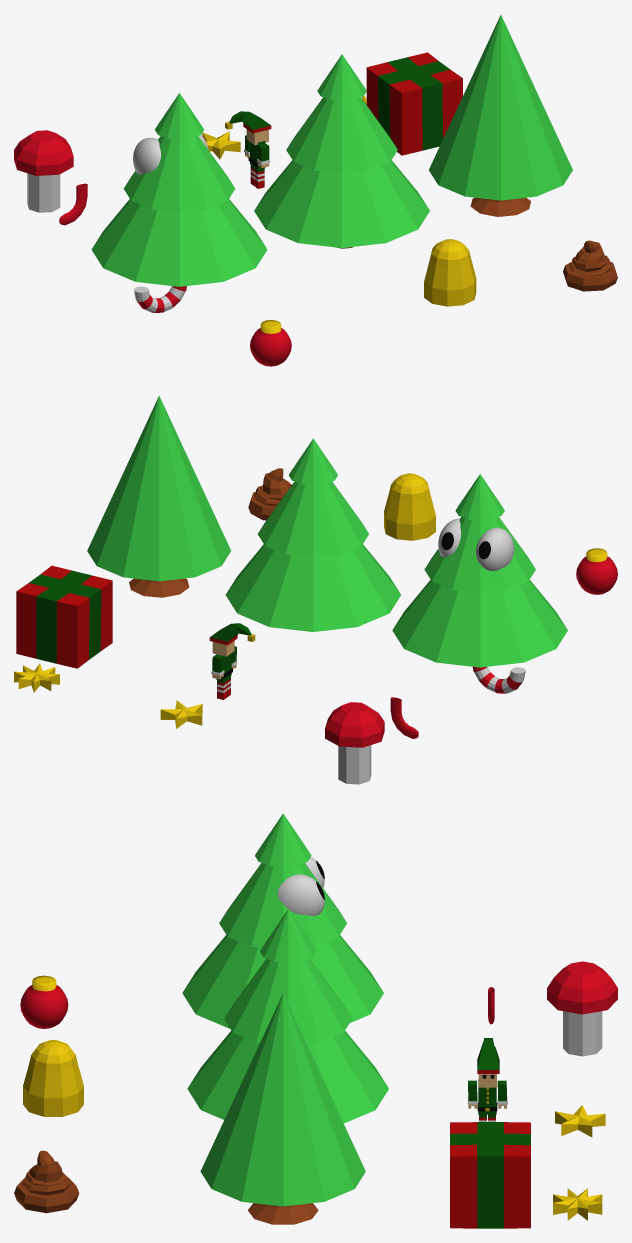
File: NATALZINHO.fbx
3 views of the same model, one above another, from view 1: azimuth 30°, elevation 25°; view 2: azimuth 150°, elevation 25°; view 3: azimuth 270°, elevation 25° (orthographic). The views are drawn at different scales.
Parts seen in each view (by area): view 1: V0, V2, V1, P0, EN2.001, EN1, EN2, P1, EN0, T1.001, T2, Sphere (+2 smaller); view 2: V0, V2, V1, P0, EN2.001, EN1, Sphere, P1, EN0, EN2, T1.001, T2 (+3 smaller); view 3: V1, V0, V2, P0, EN2.001, EN1, EN2, P1, EN0, Sphere, T1.001, ES1 (+1 smaller).
Part boxes in pixels (bbox=[...]): V0: bbox=[254, 54, 429, 247]; V2: bbox=[91, 93, 267, 286]; V1: bbox=[429, 15, 572, 200]; P0: bbox=[366, 52, 462, 155]; EN2.001: bbox=[14, 130, 73, 212]; EN1: bbox=[424, 239, 476, 306]; EN2: bbox=[563, 240, 617, 291]; P1: bbox=[225, 111, 271, 188]; EN0: bbox=[250, 320, 291, 366]; T1.001: bbox=[470, 197, 530, 216]; T2: bbox=[134, 286, 186, 312]; Sphere: bbox=[133, 135, 208, 174]; V0: bbox=[225, 438, 400, 631]; V2: bbox=[392, 474, 567, 667]; V1: bbox=[87, 396, 230, 581]; P0: bbox=[16, 565, 112, 668]; EN2.001: bbox=[325, 702, 384, 784]; EN1: bbox=[384, 473, 435, 540]; Sphere: bbox=[438, 518, 514, 570]; P1: bbox=[209, 623, 255, 699]; EN0: bbox=[576, 548, 617, 594]; EN2: bbox=[248, 468, 291, 520]; T1.001: bbox=[129, 578, 189, 597]; T2: bbox=[472, 666, 525, 693]; V1: bbox=[200, 993, 365, 1206]; V0: bbox=[187, 909, 388, 1123]; V2: bbox=[182, 813, 383, 1028]; P0: bbox=[450, 1122, 530, 1228]; EN2.001: bbox=[547, 961, 617, 1056]; EN1: bbox=[23, 1040, 83, 1116]; EN2: bbox=[14, 1150, 79, 1213]; P1: bbox=[467, 1038, 507, 1121]; EN0: bbox=[20, 975, 68, 1028]; Sphere: bbox=[277, 857, 324, 916]; T1.001: bbox=[248, 1203, 318, 1224]; ES1: bbox=[553, 1188, 602, 1220].
Bounding box in the file's own units: 1506 × 672 × 1493.
